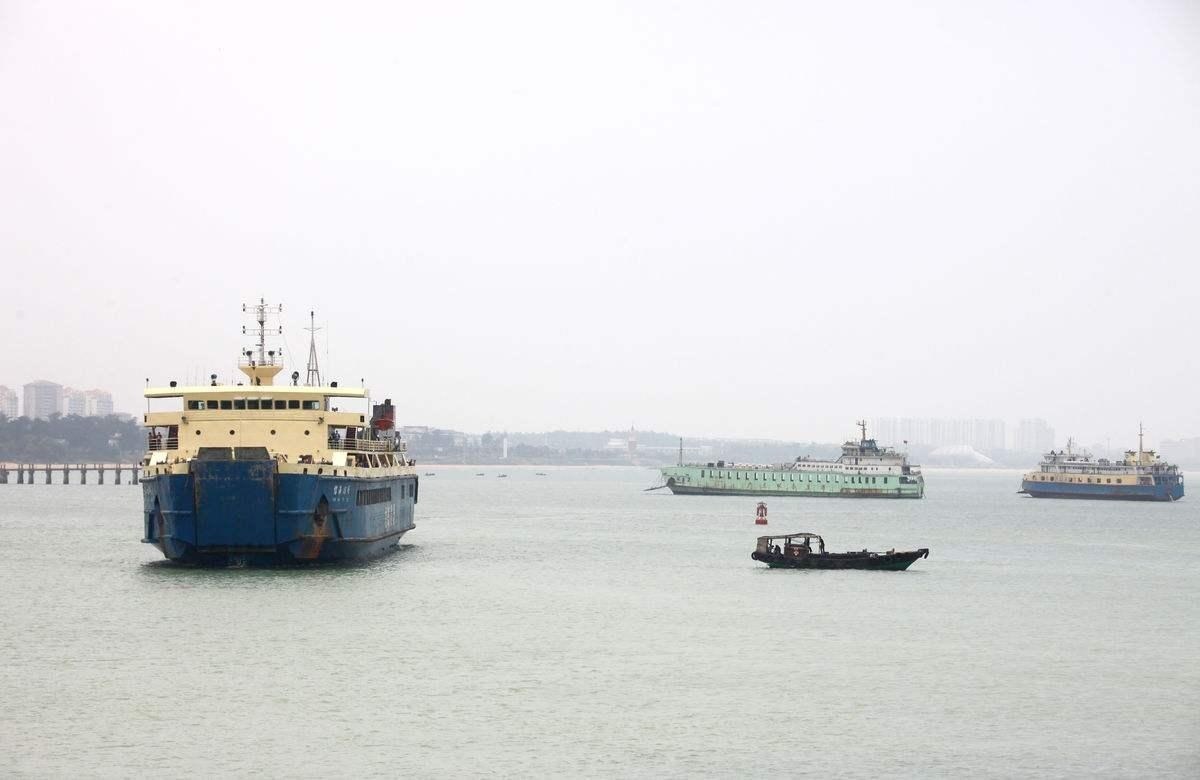Cargoship: (108, 297, 421, 589)
otherboat: (649, 426, 930, 500), (736, 528, 933, 590), (1019, 436, 1190, 499)
